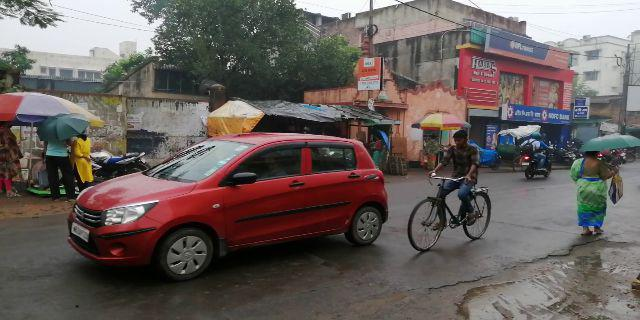Car: (73, 136, 394, 275)
Cycle: (404, 131, 495, 250)
Motorbike: (518, 131, 553, 185)
